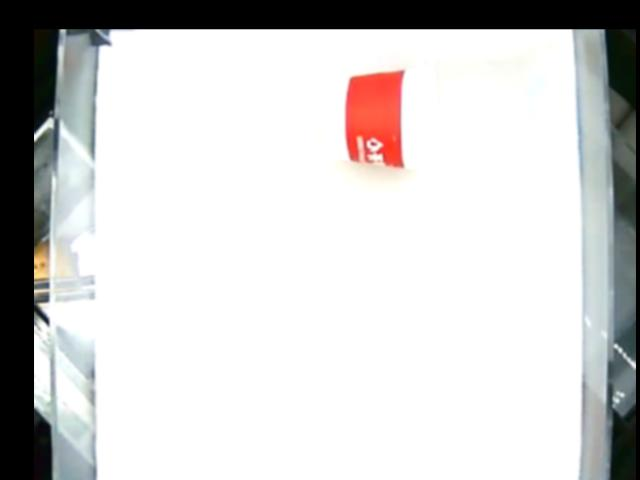Cup: (320, 60, 446, 173)
